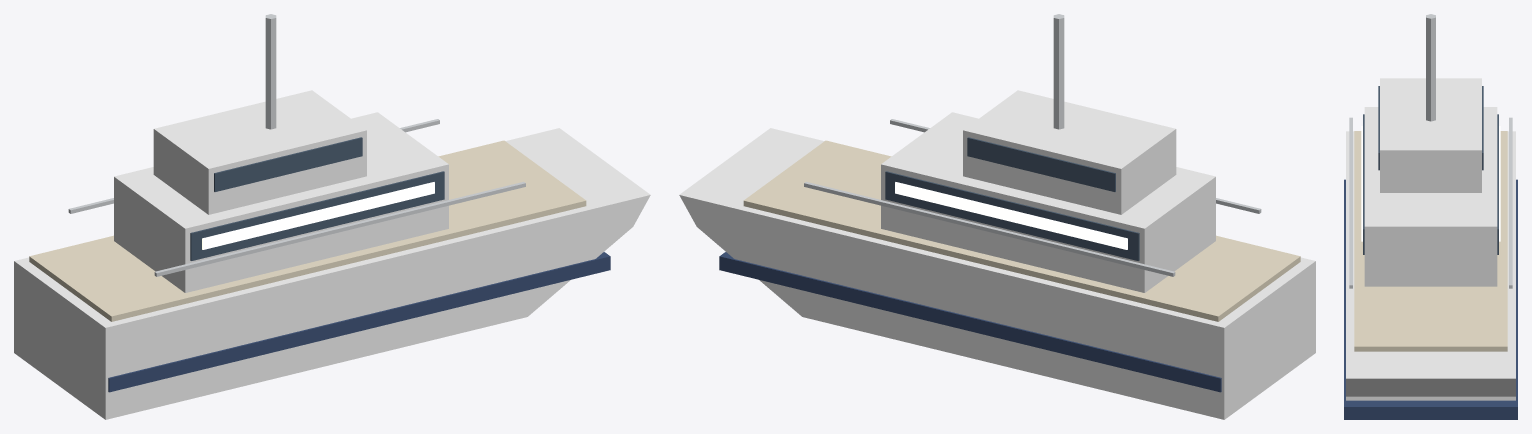
The model's file is yacht.glb.
3 views of the same model, side by side, from view 1: azimuth 30°, elevation 25°; view 2: azimuth 150°, elevation 25°; view 3: azimuth 270°, elevation 25° (orthographic). The views are drawn at different scales.
Visible parts, largest first — view 1: yacht__hull, yacht__wood, yacht__navy, yacht__car_glass, yacht__steel, yacht__window_glow; view 2: yacht__hull, yacht__wood, yacht__navy, yacht__car_glass, yacht__steel, yacht__window_glow; view 3: yacht__hull, yacht__wood, yacht__navy, yacht__steel, yacht__car_glass, yacht__window_glow.
Part boxes in pixels (x1,y1,x2,y2): yacht__hull: [14, 90, 650, 419]; yacht__wood: [29, 140, 586, 321]; yacht__navy: [108, 252, 610, 392]; yacht__car_glass: [190, 137, 444, 260]; yacht__steel: [68, 14, 525, 276]; yacht__window_glow: [202, 182, 434, 249]; yacht__hull: [679, 90, 1315, 419]; yacht__wood: [743, 140, 1300, 321]; yacht__navy: [719, 252, 1221, 392]; yacht__car_glass: [885, 137, 1139, 260]; yacht__steel: [804, 14, 1261, 276]; yacht__window_glow: [895, 182, 1127, 249]; yacht__hull: [1346, 78, 1515, 400]; yacht__wood: [1354, 131, 1507, 351]; yacht__navy: [1344, 179, 1517, 419]; yacht__steel: [1349, 14, 1512, 288]; yacht__car_glass: [1363, 86, 1498, 254]; yacht__window_glow: [1361, 126, 1500, 241].
Size of the model in its own units: 0.62 by 0.346 by 0.184.
